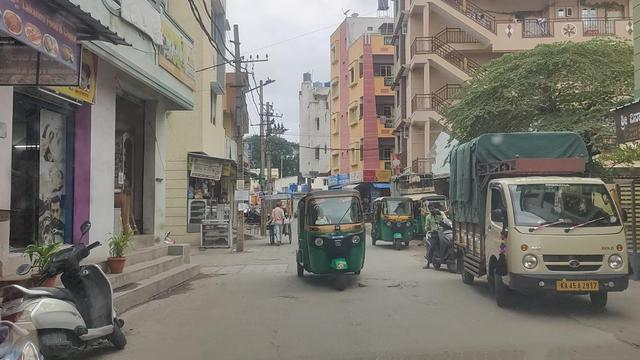HMV: (446, 139, 628, 310)
LMV: (295, 196, 363, 290)
RoadDamages: (209, 257, 282, 276), (360, 267, 404, 291)
